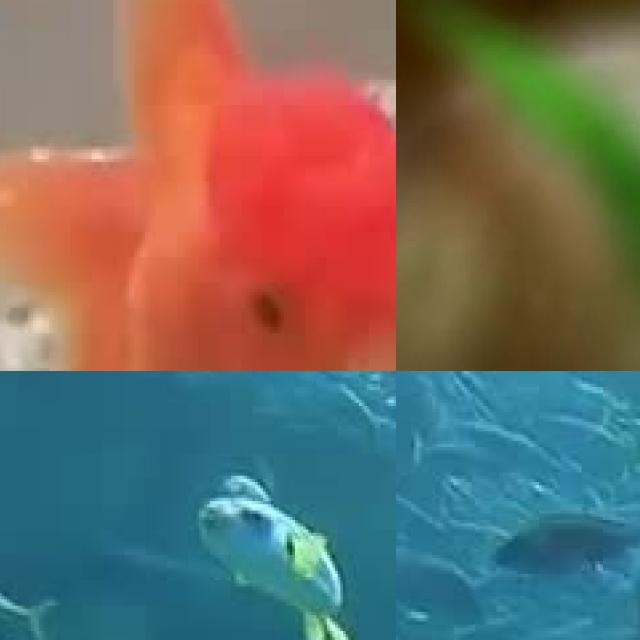fish: (0, 0, 396, 371), (396, 0, 640, 228)
